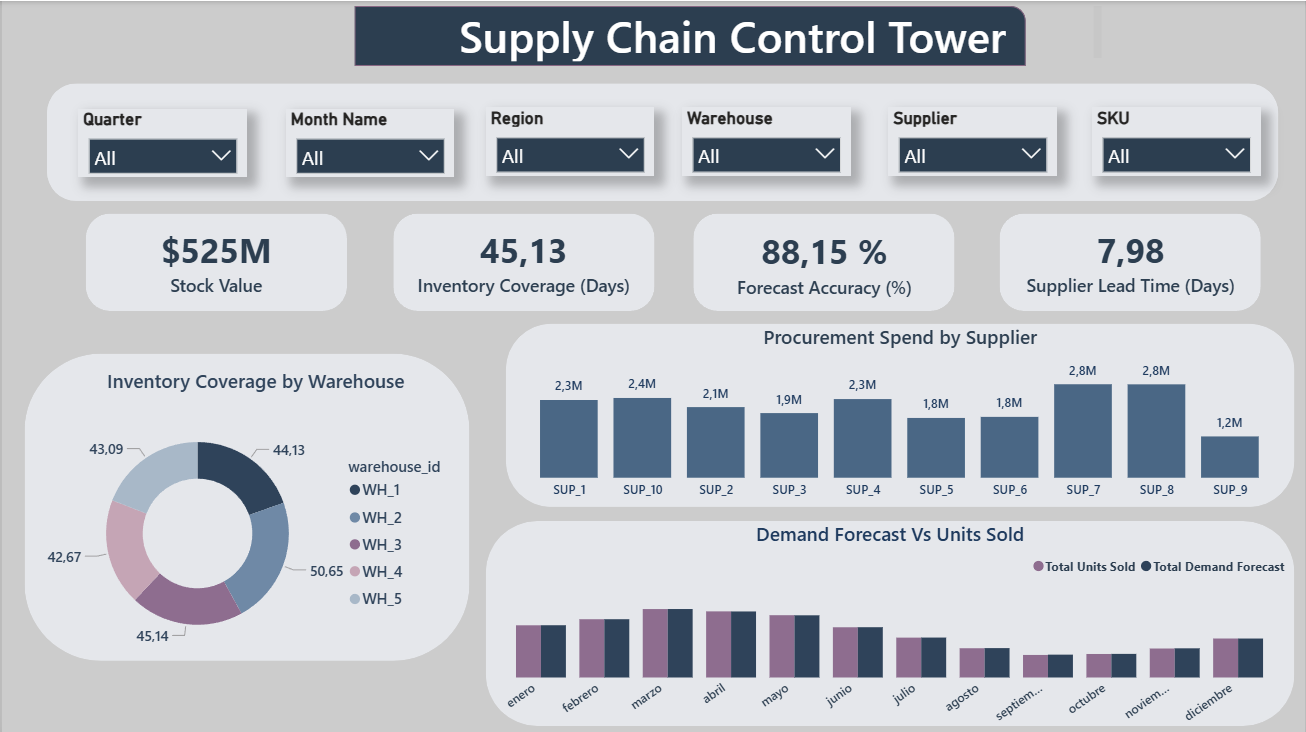

Layout of this report page (visuals, bound fields, positions):
{"tool":"powerbi","page":{"name":"Overview ","canvas":[1280,720],"ordinal":0},"visuals":[{"type":"shape","box":[474.8,510.4,793.9,201.2],"z":0},{"type":"shape","box":[494.5,316.6,774.2,180.4],"z":1000},{"type":"shape","box":[22.1,346,436.8,301.8],"z":2000},{"type":"shape","box":[44.2,81,1208.6,115.3],"z":3000},{"type":"slicer","title":"Month Name ","fields":{"Values":["date_table.Month Name"]},"box":[278.5,105.5,165.6,67.5],"z":4000},{"type":"slicer","title":"Quarter","fields":{"Values":["date_table.Quarter & Year"]},"box":[74.8,105.5,165.6,67.5],"z":5000},{"type":"slicer","title":"Region","fields":{"Values":["supply_chain.region"]},"box":[474.8,104.3,165.6,67.5],"z":6000},{"type":"slicer","title":"Warehouse","fields":{"Values":["supply_chain.warehouse_id"]},"box":[667.5,104.3,165.6,67.5],"z":7000},{"type":"slicer","title":"Supplier","fields":{"Values":["supply_chain.supplier_id"]},"box":[869.9,104.3,165.6,67.5],"z":8000},{"type":"slicer","title":"SKU","fields":{"Values":["supply_chain.sku_id"]},"box":[1069.9,104.3,165.6,67.5],"z":9000},{"type":"shape","box":[979.1,208.6,256.4,95.7],"z":10000},{"type":"shape","box":[678.5,208.6,256.4,95.7],"z":11000},{"type":"shape","box":[384.1,208.6,256.4,95.7],"z":12000},{"type":"shape","box":[82.2,208.6,256.4,95.7],"z":13000},{"type":"cardVisual","fields":{"Data":["Measure_Table.Average Inventory Coverage"]},"box":[376.7,180.4,271.2,150.9],"z":14000},{"type":"cardVisual","fields":{"Data":["Measure_Table.Supplier Lead Time"]},"box":[969.3,180.4,277.3,150.9],"z":15000},{"type":"cardVisual","fields":{"Data":["Measure_Table.Forecast Accuracy"]},"box":[679.8,181.6,255.2,150.9],"z":16000},{"type":"donutChart","title":"Inventory Coverage by Warehouse","fields":{"Category":["supply_chain.warehouse_id"],"Y":["Measure_Table.Inventory Coverage (Days)"]},"box":[39.3,359.5,419.6,301.8],"z":17000},{"type":"clusteredColumnChart","title":"Procurement Spend by Supplier","fields":{"Category":["supply_chain.supplier_id"],"Y":["Measure_Table.Total Procurement Spend"]},"box":[494.5,316.6,774.2,181.6],"z":18000},{"type":"lineClusteredColumnComboChart","title":"Demand Forecast Vs Units Sold","fields":{"Category":["date_table.Month Name"],"Y":["Measure_Table.Total Units Sold","Measure_Table.Total Demand Forecast"]},"box":[474.8,510.4,793.9,209.8],"z":19000},{"type":"cardVisual","fields":{"Data":["Measure_Table.Total Inventory Value"]},"box":[74.8,180.4,271.2,150.9],"z":20000},{"type":"shape","box":[346,4.9,658.9,58.9],"z":21000},{"type":"textbox","box":[395.9,0,640.1,63.7],"z":22000}]}

Visuals, with their boxes in screenshot pixels (x1, y1, x2, y2), scaled from the page's 1280x720 canvas onto the 1306x732 screenshot:
shape: bbox(484, 519, 1294, 723)
shape: bbox(505, 322, 1294, 505)
shape: bbox(23, 352, 468, 659)
shape: bbox(45, 82, 1278, 200)
"Month Name " slicer: bbox(284, 107, 453, 176)
"Quarter" slicer: bbox(76, 107, 245, 176)
"Region" slicer: bbox(484, 106, 653, 175)
"Warehouse" slicer: bbox(681, 106, 850, 175)
"Supplier" slicer: bbox(888, 106, 1057, 175)
"SKU" slicer: bbox(1092, 106, 1261, 175)
shape: bbox(999, 212, 1261, 309)
shape: bbox(692, 212, 954, 309)
shape: bbox(392, 212, 654, 309)
shape: bbox(84, 212, 345, 309)
cardVisual - Measure_Table.Average Inventory Coverage: bbox(384, 183, 661, 337)
cardVisual - Measure_Table.Supplier Lead Time: bbox(989, 183, 1272, 337)
cardVisual - Measure_Table.Forecast Accuracy: bbox(694, 185, 954, 338)
"Inventory Coverage by Warehouse" donutChart: bbox(40, 365, 468, 672)
"Procurement Spend by Supplier" clusteredColumnChart: bbox(505, 322, 1294, 507)
"Demand Forecast Vs Units Sold" lineClusteredColumnComboChart: bbox(484, 519, 1294, 731)
cardVisual - Measure_Table.Total Inventory Value: bbox(76, 183, 353, 337)
shape: bbox(353, 5, 1025, 65)
textbox: bbox(404, 0, 1057, 65)
